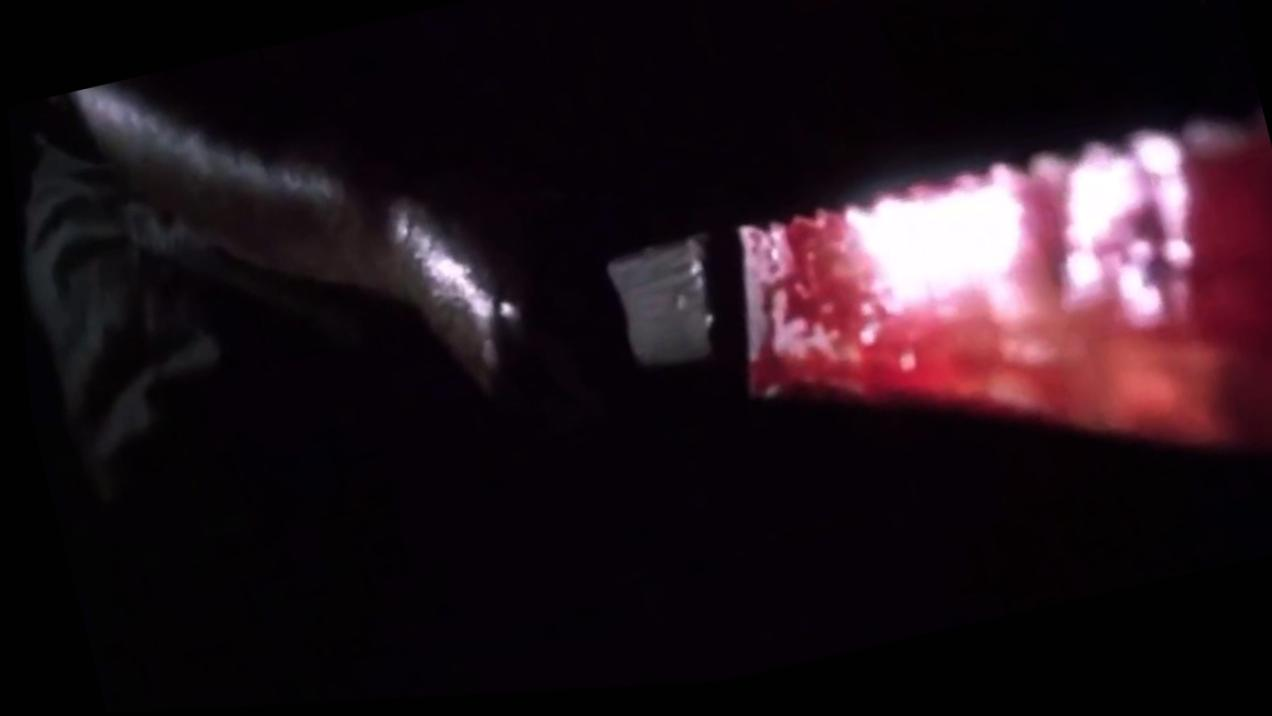Fire: (737, 136, 1272, 466)
